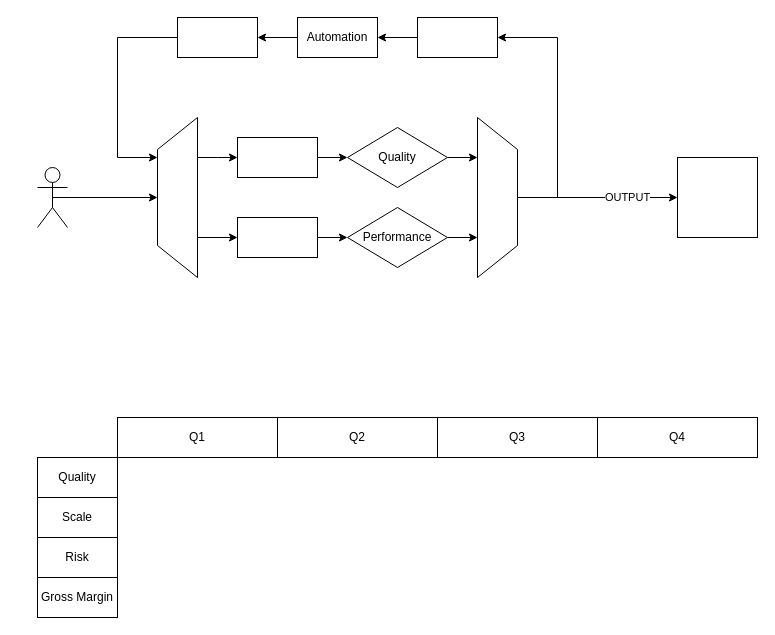
The diagram is 775 pixels wide and 635 high, and some of its shapes have lost their labels. The centre of each missing label's shape, as x and y in pixels:
"Innovation" goes at [217,37].
"Intech Studio" goes at [52,197].
"Logistics" goes at [277,237].
"Manufacturing" goes at [277,157].
"Optimization" goes at [457,37].
"Scaling" goes at [717,197].
